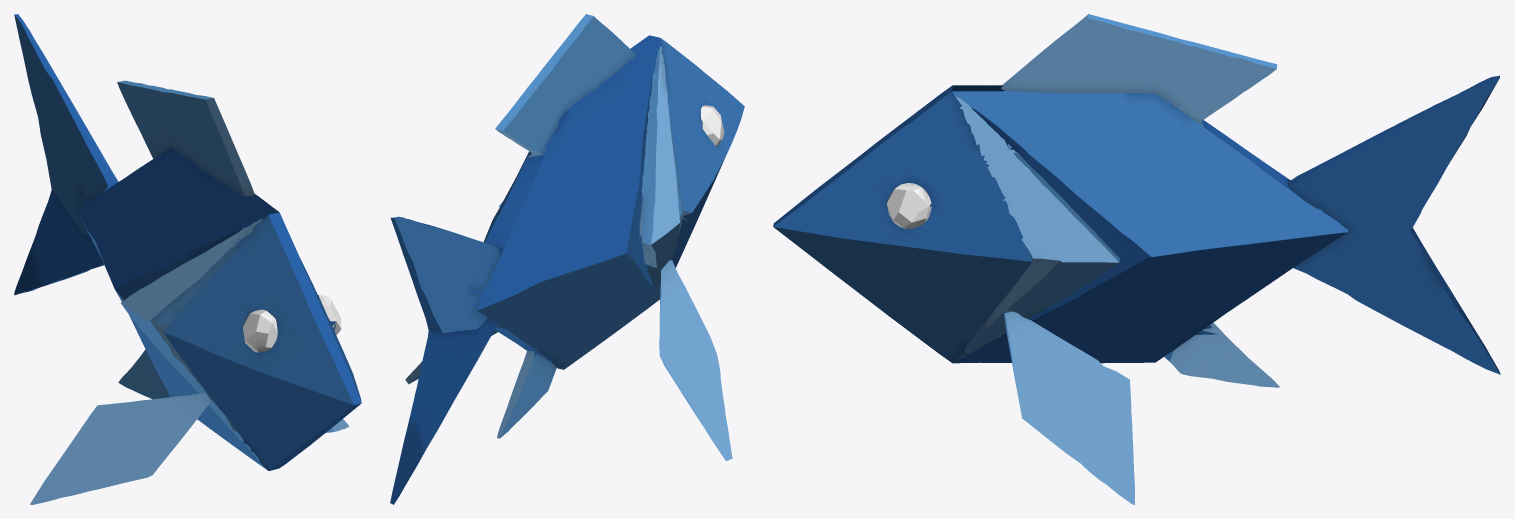
File: foldling_fish.glb
3 views of the same model, side by side, from view 1: azimuth 30°, elevation 25°; view 2: azimuth 150°, elevation 25°; view 3: azimuth 270°, elevation 25° (orthographic). The views are drawn at different scales.
Parts seen in each view (by area): view 1: ikan; view 2: ikan; view 3: ikan.
Boxes of the visible parts, box(x1,y1,x2,y2) form: ikan: box(14, 14, 361, 504); ikan: box(390, 14, 744, 504); ikan: box(773, 14, 1500, 504).
Size of the model in its own units: 1.03 by 1.18 by 1.9.
Materials: 6 (6 with a texture image).
